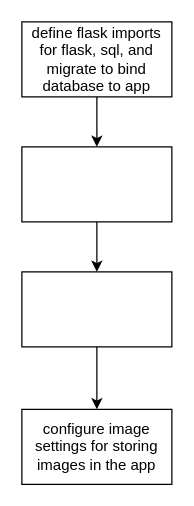
This 194x506 diagram has some shape labels left out. Each missing label, with the box of its shape:
bind database to app: (21, 271, 172, 347)
define the app, database uri, app config settings, database: (21, 146, 172, 222)
